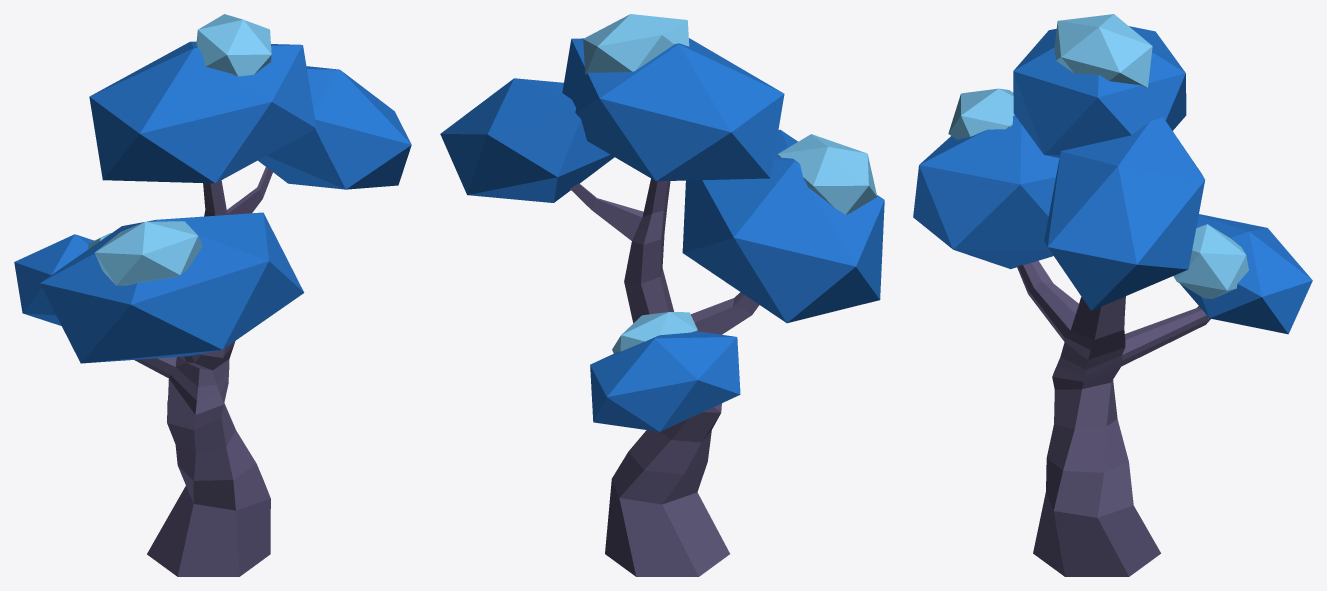
File: Tree_1.fbx
3 views of the same model, side by side, from view 1: azimuth 30°, elevation 25°; view 2: azimuth 150°, elevation 25°; view 3: azimuth 270°, elevation 25° (orthographic). The views are drawn at different scales.
Visible parts, largest first — view 1: Tree_1.001; view 2: Tree_1.001; view 3: Tree_1.001.
Boxes of the visible parts, x1=… form: Tree_1.001: x1=14, y1=14, x2=411, y2=576; Tree_1.001: x1=440, y1=14, x2=884, y2=576; Tree_1.001: x1=913, y1=14, x2=1312, y2=576.
Bounding box in the file's own units: 4.17 × 5.47 × 3.64.
Materials: 1 (1 with a texture image).
